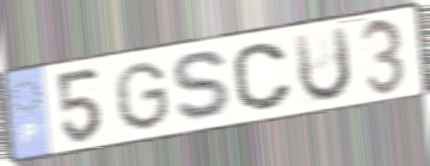3: (359, 14, 407, 100)
5: (54, 62, 106, 147)
C: (229, 40, 296, 114)
G: (111, 60, 173, 133)
S: (168, 48, 238, 124)
U: (290, 23, 355, 106)
